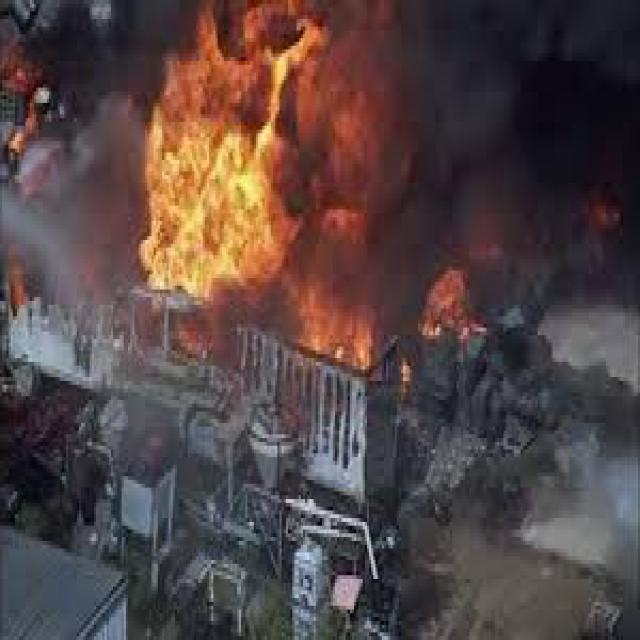Fire: (140, 10, 387, 294)
Smoke: (419, 0, 640, 419)
